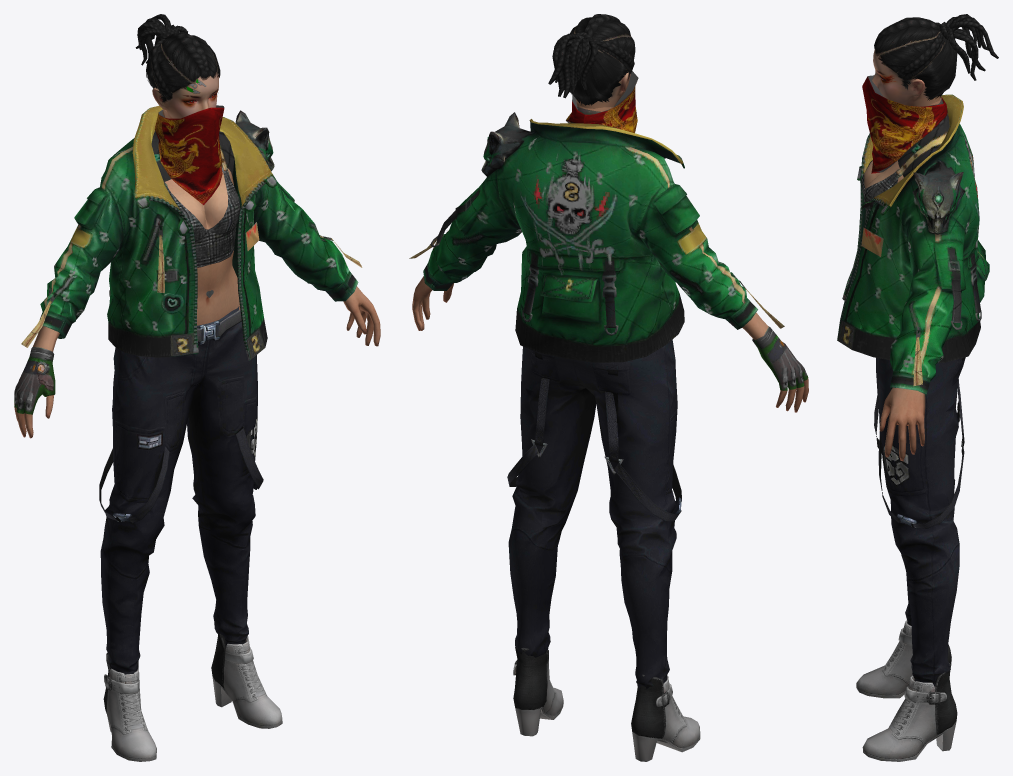
File: maskdread.fbx
3 renders of one model, left to right at view 1: azimuth 30°, elevation 25°; view 2: azimuth 150°, elevation 25°; view 3: azimuth 270°, elevation 25°, orthographic. The views are drawn at different scales.
Visible parts, largest first — view 1: Object_5, Object_4, Object_2, Object_3, Object_6, Object_7; view 2: Object_5, Object_4, Object_3, Object_7, Object_2, Object_6; view 3: Object_5, Object_4, Object_3, Object_7, Object_2, Object_6.
Boxes of the visible parts, left/top/right/bottom form: Object_5: left=14, top=105, right=362, bottom=414; Object_4: left=99, top=306, right=263, bottom=674; Object_2: left=14, top=74, right=380, bottom=438; Object_3: left=103, top=634, right=282, bottom=761; Object_6: left=154, top=105, right=224, bottom=205; Object_7: left=135, top=14, right=220, bottom=102; Object_5: left=409, top=107, right=807, bottom=390; Object_4: left=507, top=339, right=681, bottom=689; Object_3: left=513, top=647, right=700, bottom=761; Object_7: left=548, top=14, right=635, bottom=105; Object_2: left=412, top=72, right=808, bottom=412; Object_6: left=566, top=71, right=638, bottom=133; Object_5: left=837, top=94, right=989, bottom=395; Object_4: left=874, top=357, right=965, bottom=686; Object_3: left=856, top=620, right=957, bottom=761; Object_7: left=874, top=14, right=998, bottom=100; Object_2: left=864, top=50, right=941, bottom=461; Object_6: left=862, top=75, right=947, bottom=173.
Size of the model in its own units: 1604 by 2897 by 604.
6 materials, 6 textured.
